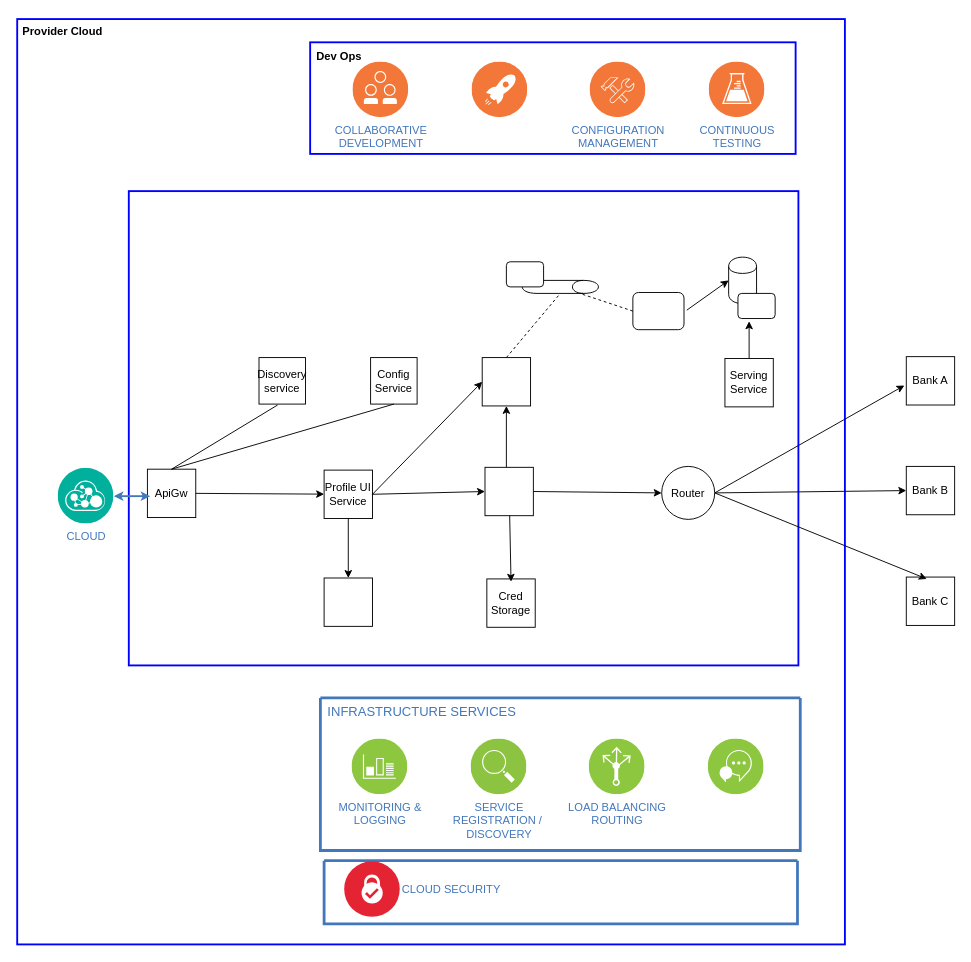
This 971x962 diagram has some shape labels left out. Each missing label, with the centre of its shape:
"Auth Service" goes at point 347,601.
"CMS" goes at point 524,274.
"Container Service" goes at point 207,201.
"CONTINUOUS DEPLOY" goes at point 499,89.
"FI Data Service" goes at point 506,381.
"FI GW Service" goes at point 508,491.
"INTERSERVICE COMMUNICATION" goes at point 736,766.
"Serving Pipeline" goes at point 658,311.
"Serving Storage" goes at point 756,305.
